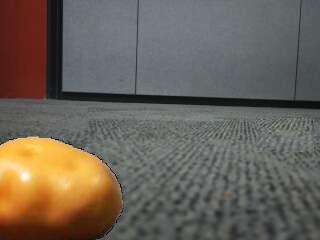Potato: (0, 134, 122, 239)
